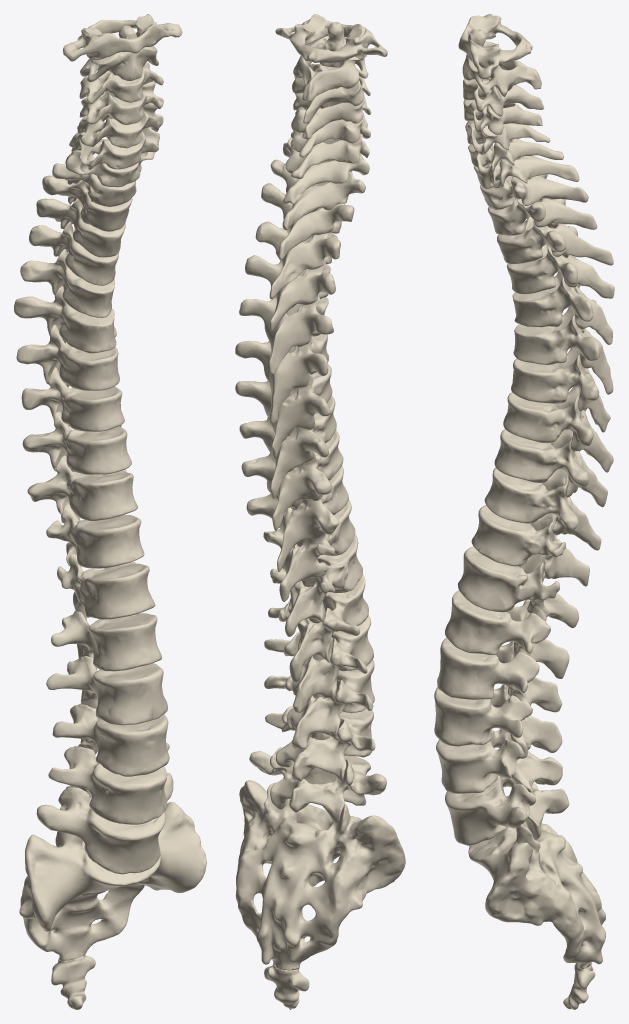
Rendered from spine-with-coccyx.glb.
3 renders of one model, left to right at view 1: azimuth 30°, elevation 25°; view 2: azimuth 150°, elevation 25°; view 3: azimuth 270°, elevation 25°, orthographic. The views are drawn at different scales.
Parts seen in each view (by area): view 1: bone_sacrum_M, bone_vertebra_L5_M, bone_vertebra_L2_M, bone_vertebra_L4_M, bone_vertebra_L3_M, bone_vertebra_L1_M, bone_vertebra_T12_M, bone_vertebra_T10_M, bone_vertebra_T11_M, bone_vertebra_T9_M, bone_vertebra_T7_M, bone_vertebra_T8_M (+14 smaller); view 2: bone_sacrum_M, bone_vertebra_L5_M, bone_vertebra_L4_M, bone_vertebra_L2_M, bone_vertebra_L3_M, bone_vertebra_L1_M, bone_vertebra_T10_M, bone_vertebra_T9_M, bone_vertebra_T12_M, bone_vertebra_T6_M, bone_vertebra_T7_M, bone_vertebra_T5_M (+14 smaller); view 3: bone_sacrum_M, bone_vertebra_L3_M, bone_vertebra_L2_M, bone_vertebra_L1_M, bone_vertebra_T12_M, bone_vertebra_L5_M, bone_vertebra_L4_M, bone_vertebra_T11_M, bone_vertebra_T10_M, bone_vertebra_T9_M, bone_vertebra_T8_M, bone_vertebra_T7_M (+14 smaller).
Part boxes in pixels (box(x1,y1,x2,y2)): bone_sacrum_M: box(19, 802, 206, 960); bone_vertebra_L5_M: box(36, 773, 173, 874); bone_vertebra_L2_M: box(46, 656, 167, 725); bone_vertebra_L4_M: box(48, 743, 169, 824); bone_vertebra_L3_M: box(52, 704, 169, 776); bone_vertebra_L1_M: box(51, 611, 161, 671); bone_vertebra_T12_M: box(57, 554, 155, 620); bone_vertebra_T10_M: box(27, 455, 137, 523); bone_vertebra_T11_M: box(46, 503, 144, 568); bone_vertebra_T9_M: box(22, 411, 131, 474); bone_vertebra_T7_M: box(16, 324, 119, 390); bone_vertebra_T8_M: box(21, 367, 124, 431); bone_sacrum_M: box(235, 780, 405, 970); bone_vertebra_L5_M: box(249, 747, 386, 824); bone_vertebra_L4_M: box(265, 705, 375, 782); bone_vertebra_L2_M: box(264, 615, 373, 712); bone_vertebra_L3_M: box(264, 659, 374, 749); bone_vertebra_L1_M: box(268, 573, 368, 681); bone_vertebra_T10_M: box(246, 466, 348, 571); bone_vertebra_T9_M: box(241, 430, 343, 530); bone_vertebra_T12_M: box(270, 534, 362, 636); bone_vertebra_T6_M: box(235, 334, 328, 423); bone_vertebra_T7_M: box(235, 363, 332, 458); bone_vertebra_T5_M: box(239, 295, 333, 374); bone_sacrum_M: box(468, 782, 605, 969); bone_vertebra_L3_M: box(434, 684, 562, 758); bone_vertebra_L2_M: box(437, 637, 562, 719); bone_vertebra_L1_M: box(445, 590, 569, 678); bone_vertebra_T12_M: box(457, 546, 578, 628); bone_vertebra_L5_M: box(445, 775, 569, 845); bone_vertebra_L4_M: box(436, 729, 562, 794); bone_vertebra_T11_M: box(471, 505, 589, 586); bone_vertebra_T10_M: box(484, 467, 601, 550); bone_vertebra_T9_M: box(494, 429, 607, 507); bone_vertebra_T8_M: box(503, 387, 613, 472); bone_vertebra_T7_M: box(511, 348, 610, 432).
Size of the model in its own units: 0.1223 by 0.6999 by 0.1166.
